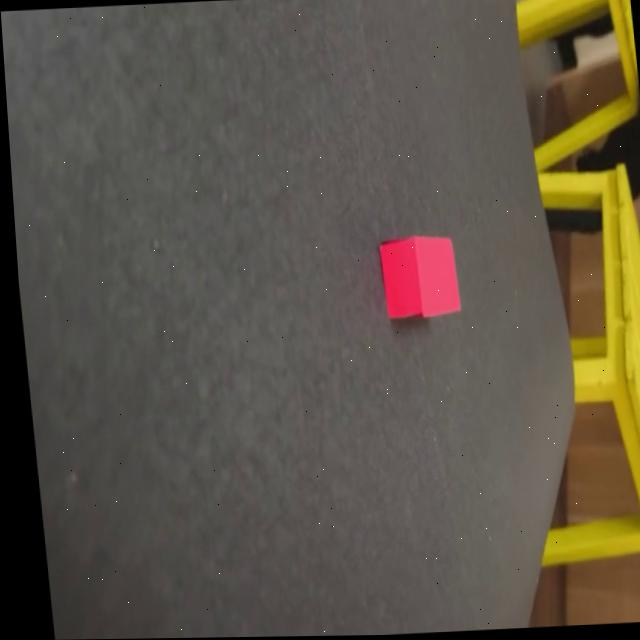red block: (376, 233, 462, 321)
